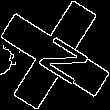N_NW: (23, 25, 87, 85)
